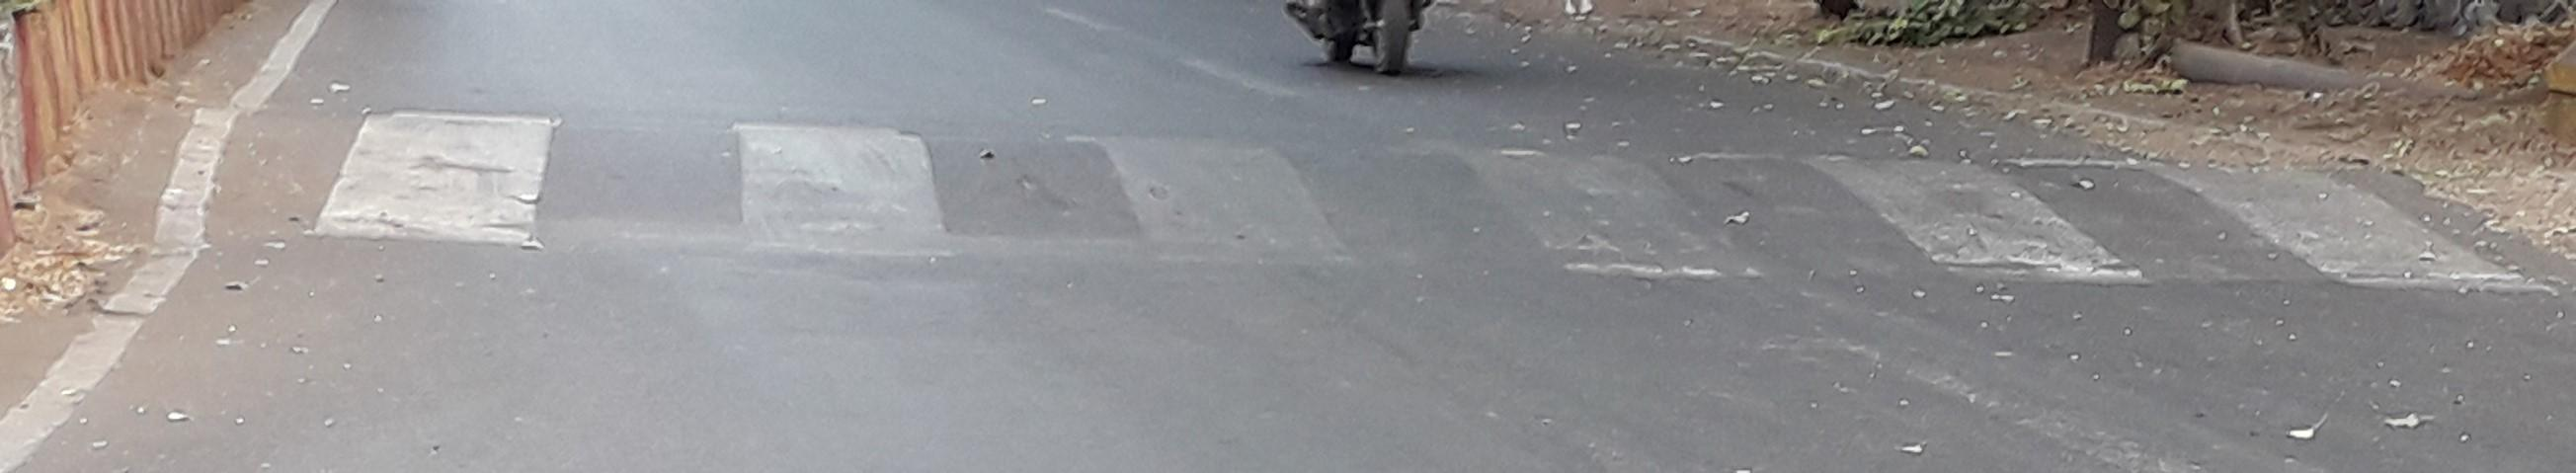speed-bump: (82, 97, 2564, 279)
